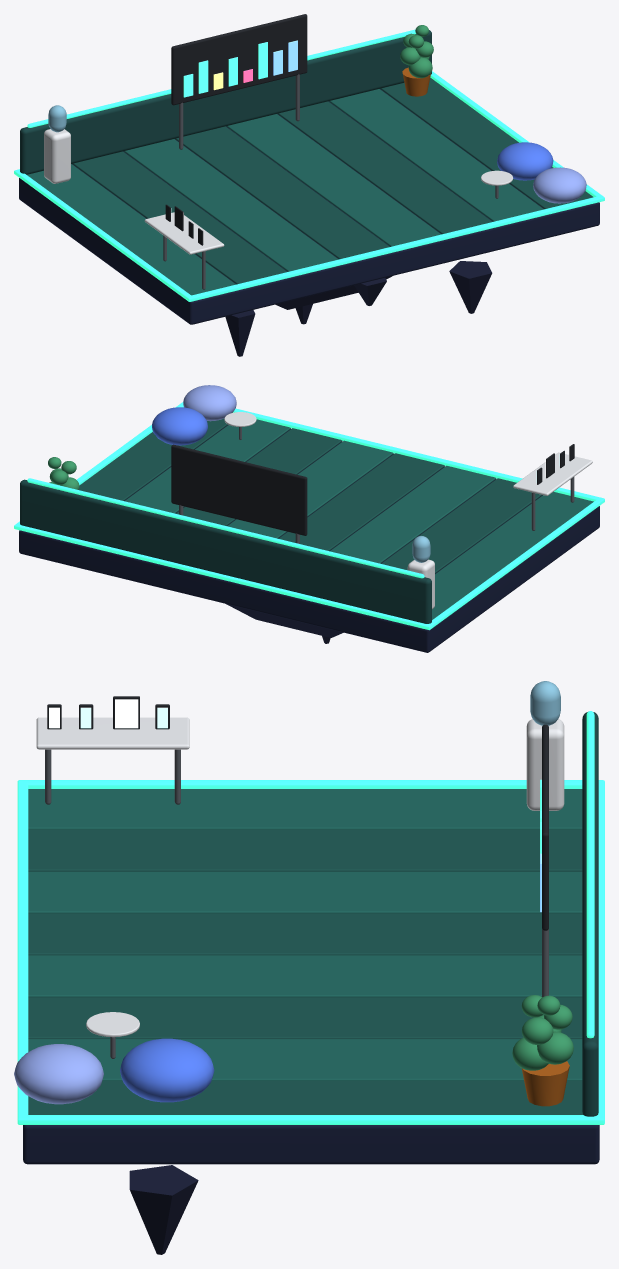
File: island_quality.glb
3 views of the same model, one above another, from view 1: azimuth 30°, elevation 25°; view 2: azimuth 150°, elevation 25°; view 3: azimuth 270°, elevation 25° (orthographic). The views are drawn at different scales.
Parts seen in each view (by area): view 1: WallBack, Slab, Tile.004, Tile.002, Tile.003, Tile.005, Tile.006, Tile.001, Tile, BigScreen, Tile.007, RimZ.001 (+12 smaller); view 2: WallBack, Slab, BigScreen, Tile, Tile.002, Tile.003, Tile.001, Tile.004, Tile.007, Tile.006, Tile.005, RimZ (+11 smaller); view 3: Tile.003, Tile.004, Tile.002, Tile.001, Slab, Tile, Tile.005, Tile.006, Tile.007, RimX.001, BeanBag1, WallBack (+14 smaller).
Boxes of the visible parts, x1,y1,x2,y2 form: WallBack: (20,30,431,174); Slab: (19,89,599,324); Tile.004: (226,114,440,246); Tile.002: (124,139,338,271); Tile.003: (175,126,389,259); Tile.005: (277,101,492,234); Tile.006: (329,89,543,221); Tile.001: (72,151,286,284); Tile: (27,164,235,295); BigScreen: (171,14,307,105); Tile.007: (380,78,593,209); RimZ.001: (187,195,604,301); WallBack: (20,479,431,623); Slab: (19,424,599,652); BigScreen: (171,444,307,535); Tile: (432,491,593,619); Tile.002: (330,465,496,563); Tile.003: (278,453,444,550); Tile.001: (381,478,542,573); Tile.004: (227,440,393,538); Tile.007: (78,418,227,500); Tile.006: (124,419,290,513); Tile.005: (176,428,342,525); RimZ: (14,523,431,630); Tile.003: (28,913,582,955); Tile.004: (28,955,582,997); Tile.002: (28,871,582,913); Tile.001: (28,829,582,871); Slab: (23,1125,599,1164); Tile: (28,789,582,829); Tile.005: (28,997,582,1038); Tile.006: (28,1039,582,1080); Tile.007: (28,1081,582,1114); RimX.001: (24,1115,597,1124); BeanBag1: (120,1038,214,1102); WallBack: (582,712,598,1116).
Bounding box in the file's own units: 8.92 × 4.8 × 6.56.
